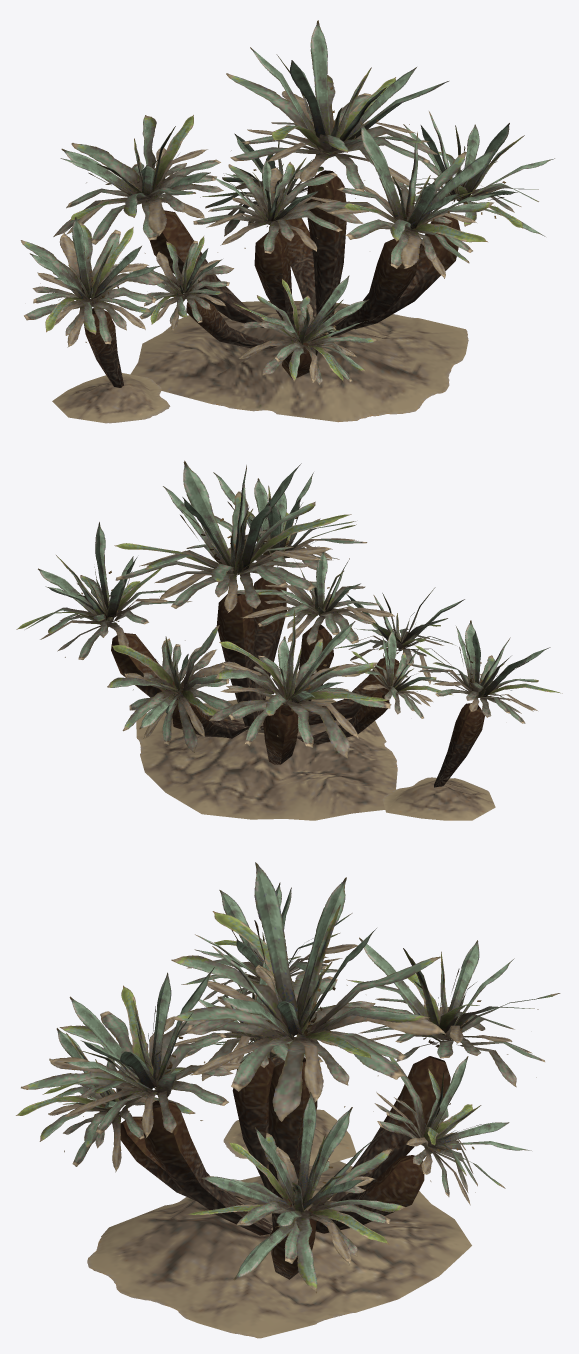
File: sm_cao_4.FBX
The picture shows the model from 3 angles, top to bottom: view 1: azimuth 30°, elevation 25°; view 2: azimuth 150°, elevation 25°; view 3: azimuth 270°, elevation 25°; orthographic projection. The views are drawn at different scales.
Visible parts, largest first — view 1: sm_cao_4; view 2: sm_cao_4; view 3: sm_cao_4.
Boxes of the visible parts, left/top/right/bottom form: sm_cao_4: left=20, top=20, right=554, bottom=423; sm_cao_4: left=16, top=460, right=562, bottom=820; sm_cao_4: left=16, top=862, right=560, bottom=1338.
Size of the model in its own units: 766 by 431 by 561.
